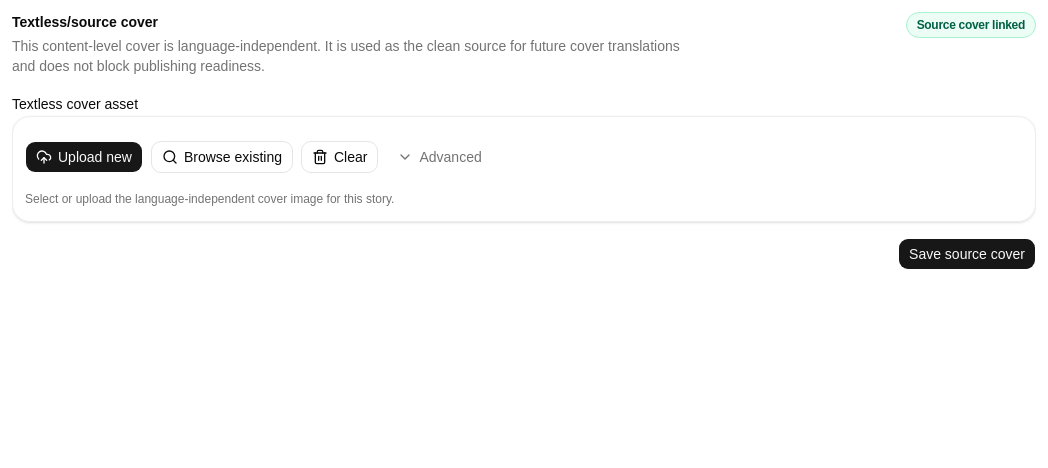
Scenario: ContentTextlessCoverForm › rejects non-image asset ids before saving
Click the button "Advanced" at (440, 157), box [386,141,493,173]
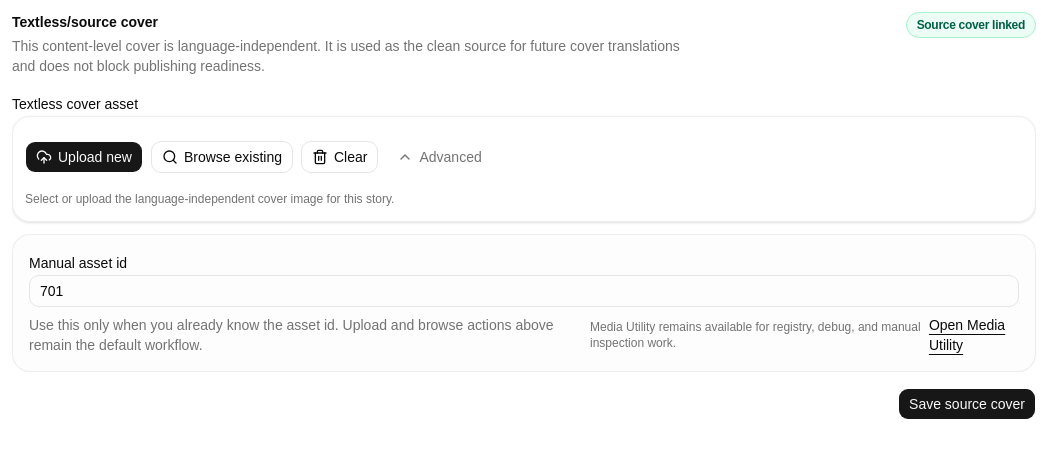
Replace the text in the number field named "manual asset id" with "55" at (524, 291), box [29,275,1019,307]
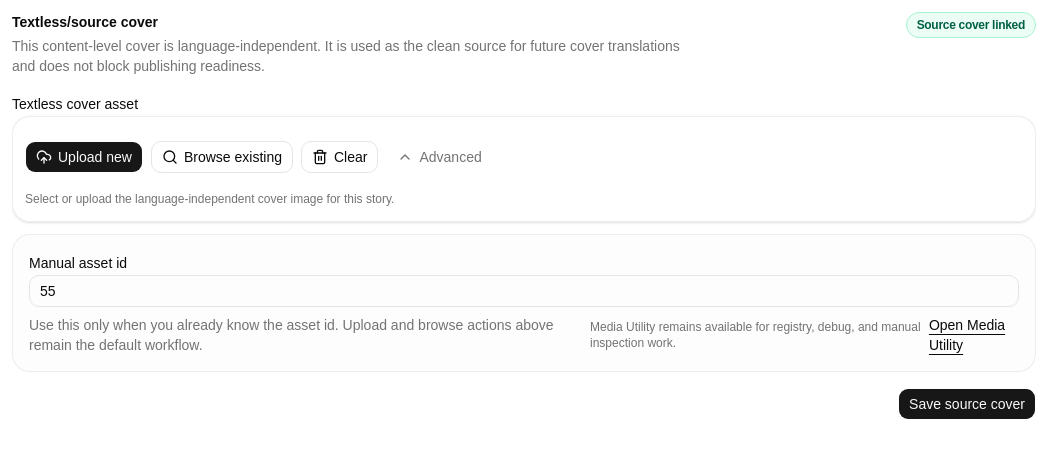
Click the button "Save source cover" at (967, 404), box [898,388,1036,420]
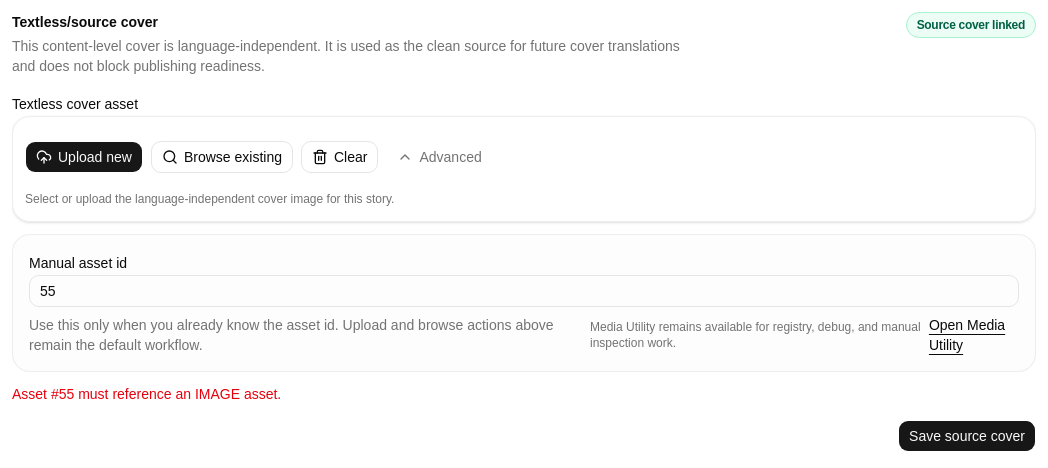
Check: the text "Asset #55 must reference an IMAGE asset." is shown, box [12,386,281,402]
